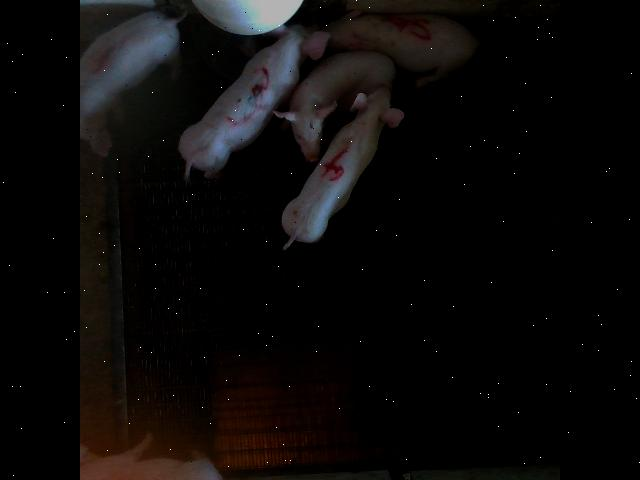pig-1: (81, 10, 181, 116)
pig-2: (81, 434, 222, 480)
pig-3: (179, 25, 329, 179)
pig-4: (282, 86, 404, 249)
pig-5: (324, 10, 484, 89)
